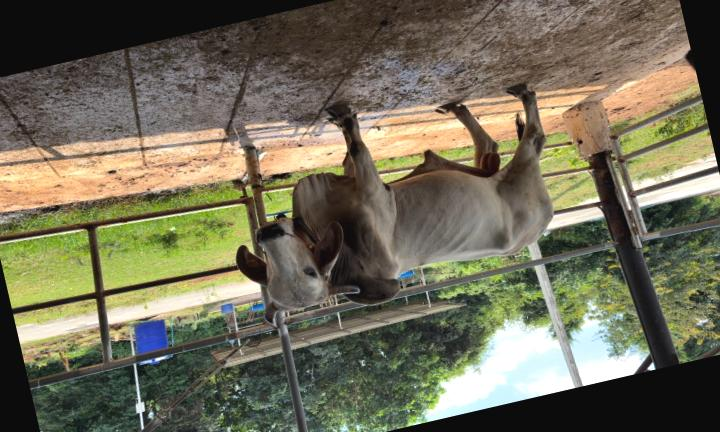Brahman: (236, 85, 554, 322)
